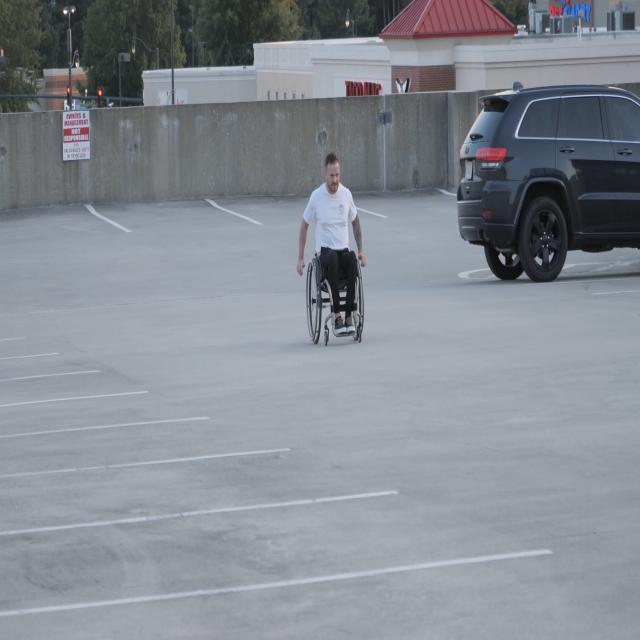wheelchairs: (305, 228, 365, 347)
